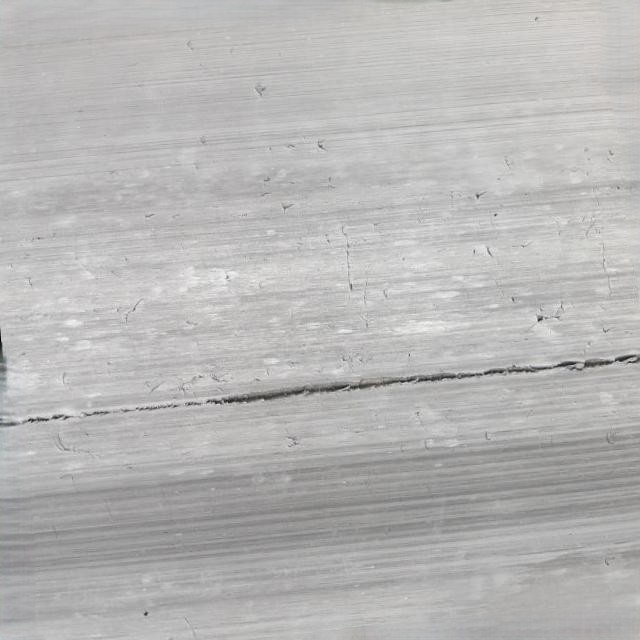Puncture: (532, 306, 548, 332)
Tear: (4, 344, 640, 442), (334, 208, 366, 298)
